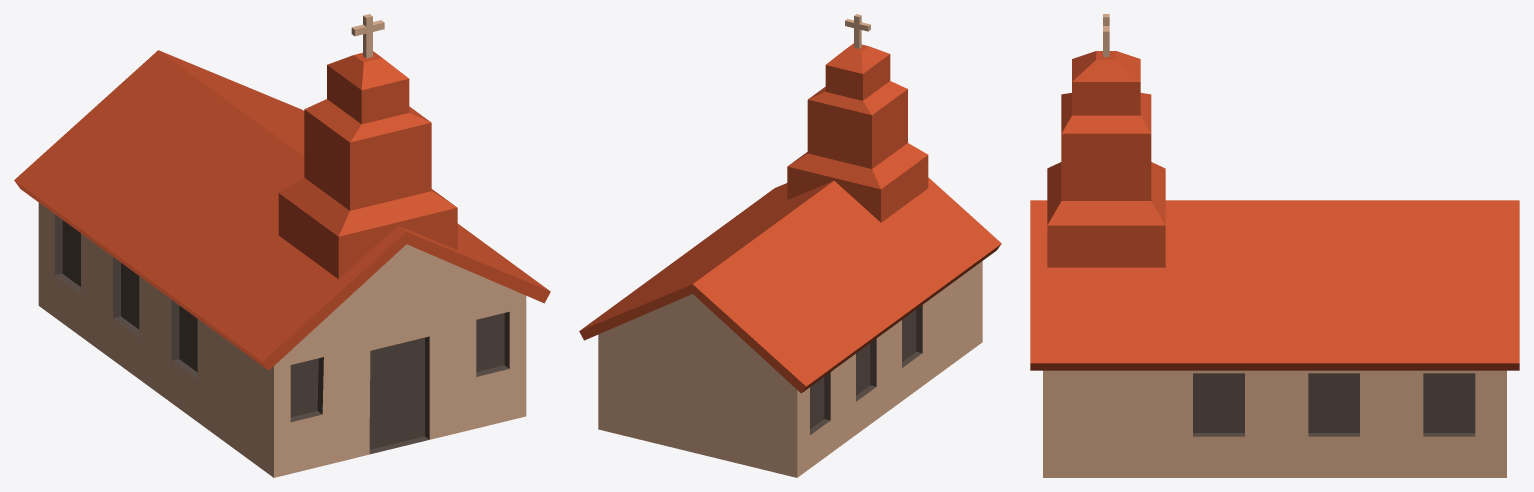
3 renders of one model, left to right at view 1: azimuth 30°, elevation 25°; view 2: azimuth 150°, elevation 25°; view 3: azimuth 270°, elevation 25°, orthographic. The views are drawn at different scales.
Parts seen in each view (by area): view 1: igreja_0; view 2: igreja_0; view 3: igreja_0.
Boxes of the visible parts, x1,y1,x2,y2 form: igreja_0: (14,14,550,477); igreja_0: (579,14,1001,477); igreja_0: (1030,14,1519,477).
Bounding box in the file's own units: 12.4 × 16.75 × 18.49.
Materials: 1 (1 with a texture image).
